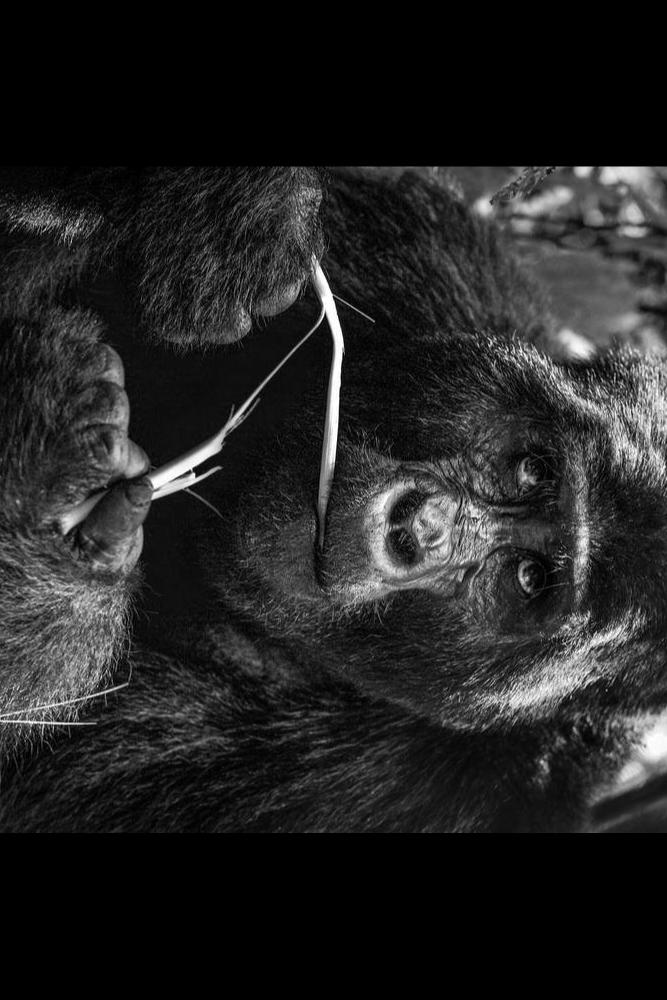goriile_montagne: (0, 166, 667, 833)
